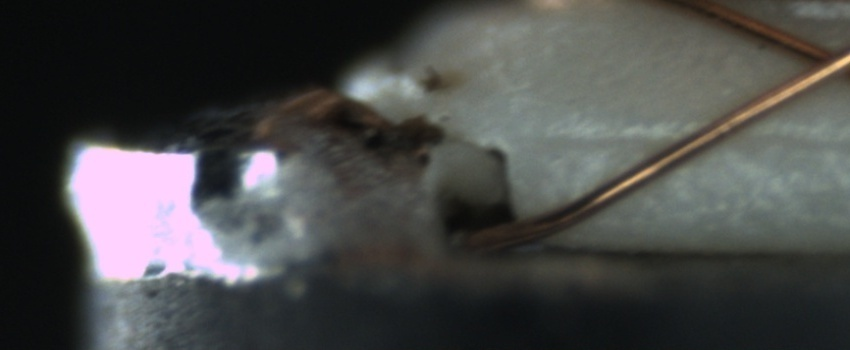CL: (782, 31, 849, 92)
DL: (547, 105, 849, 169)
